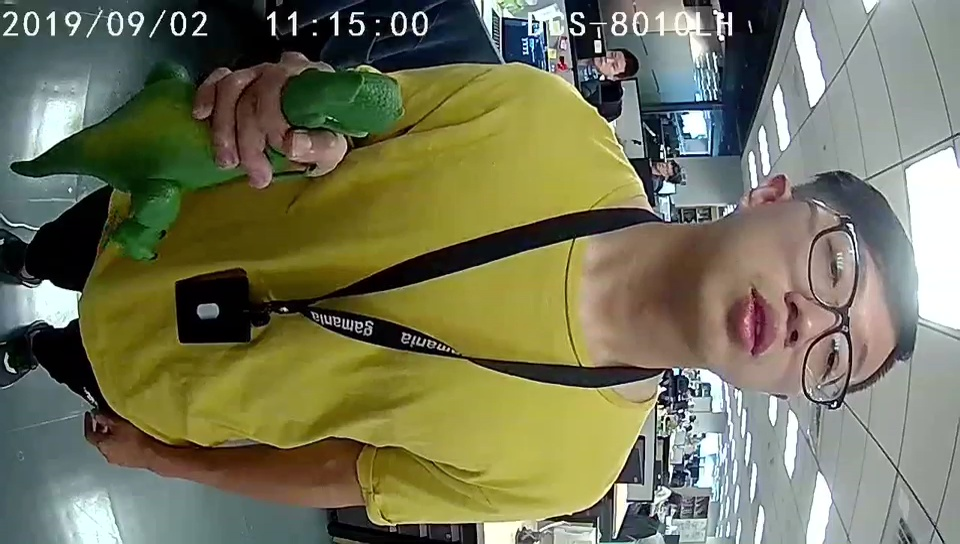rex: (114, 69, 405, 262)
